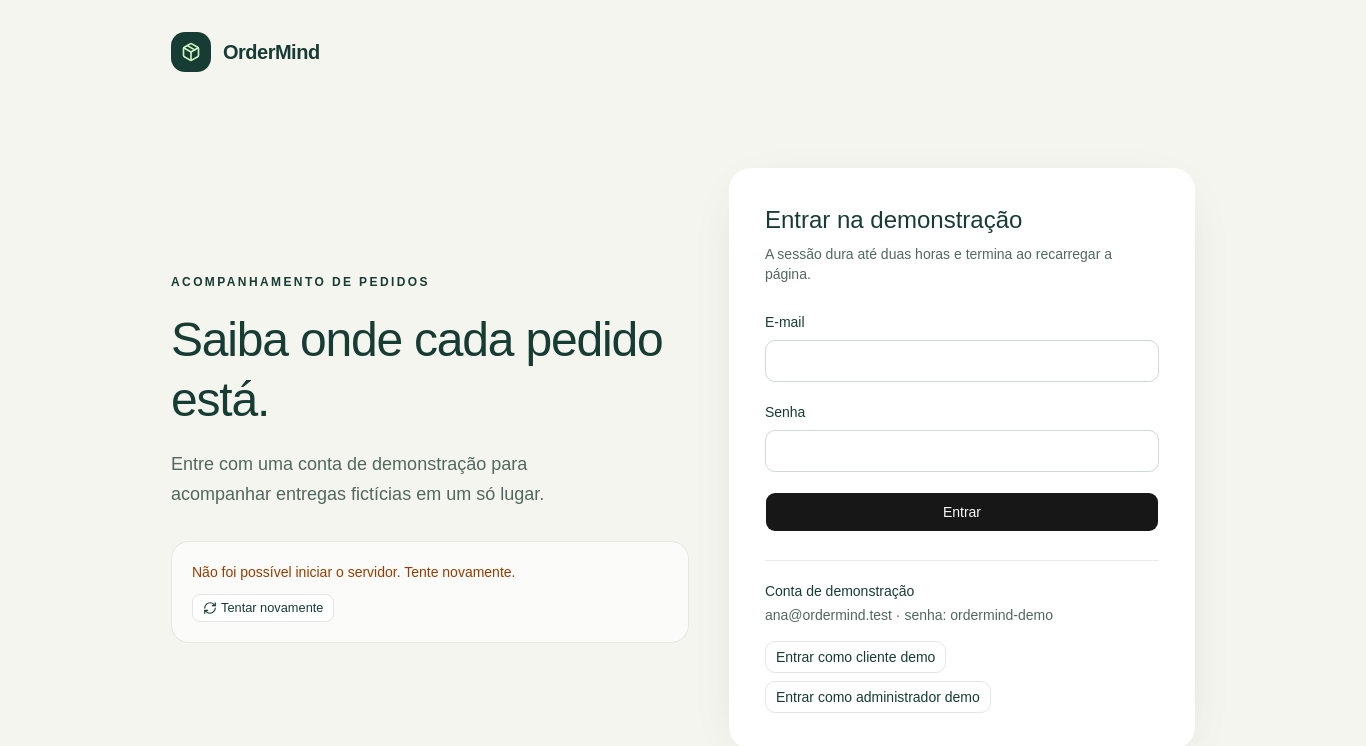
it: App › renders login errors and allows a health retry
Click the button "Tentar novamente" at (263, 608), box [192,594,334,622]
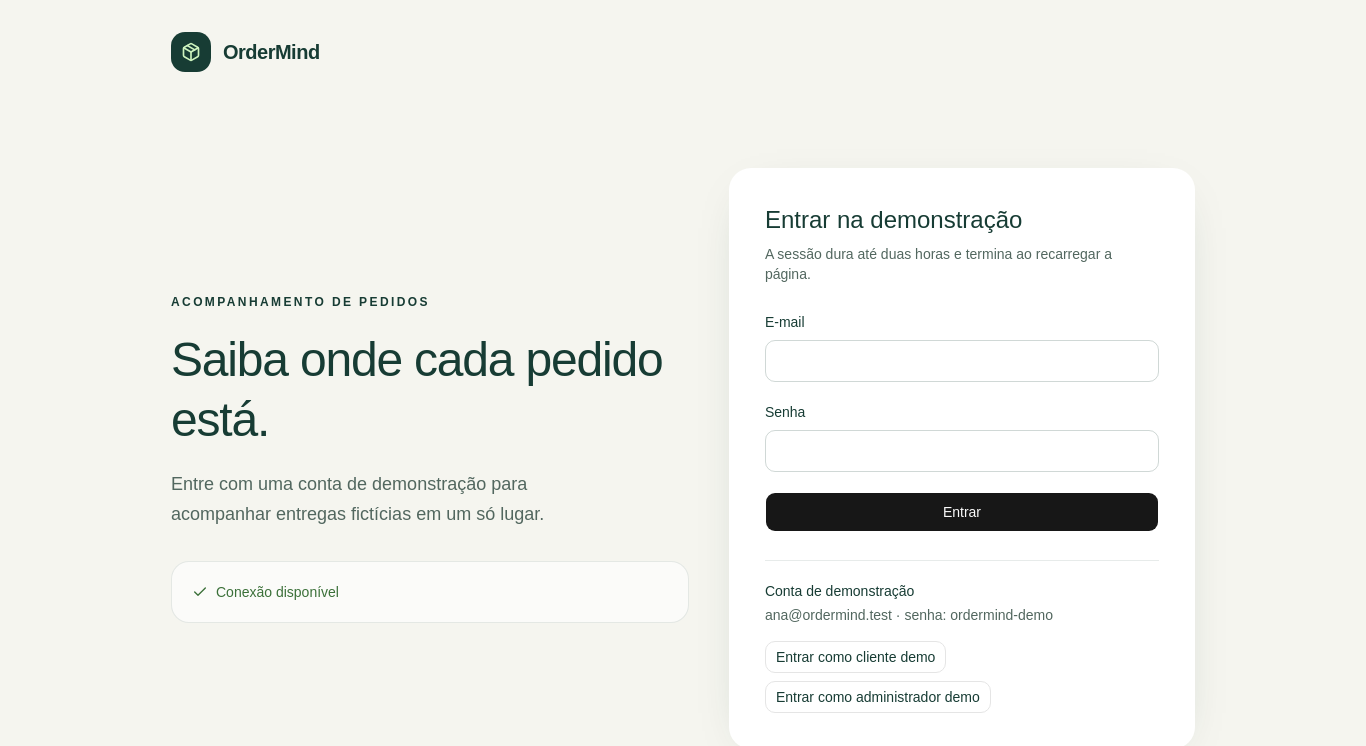
Result: the text "Conexão disponível" is shown at [192,584,339,600]
Type "ana@ordermind.test" into the field labelled "E-mail" at (962, 361), box [765,340,1159,382]
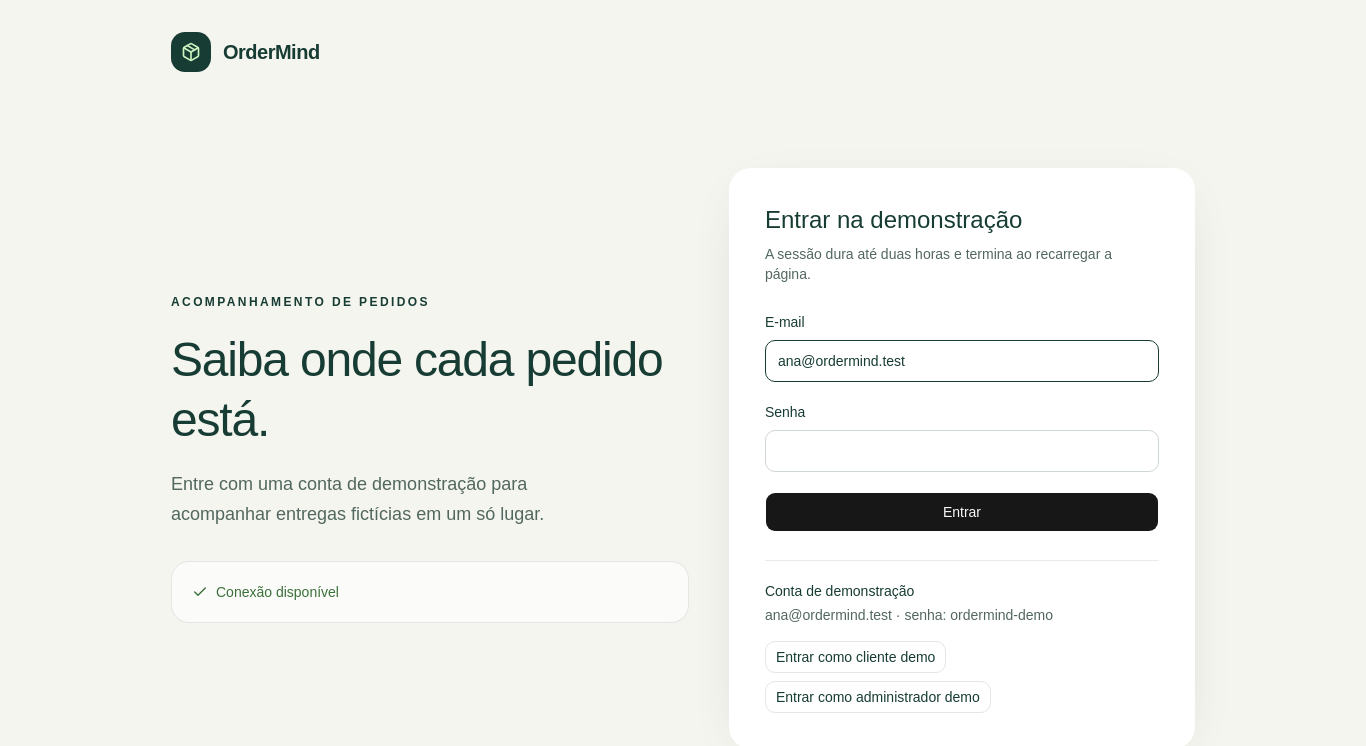
Type "errada" into the password field labelled "Senha" at (962, 451), box [765,430,1159,472]
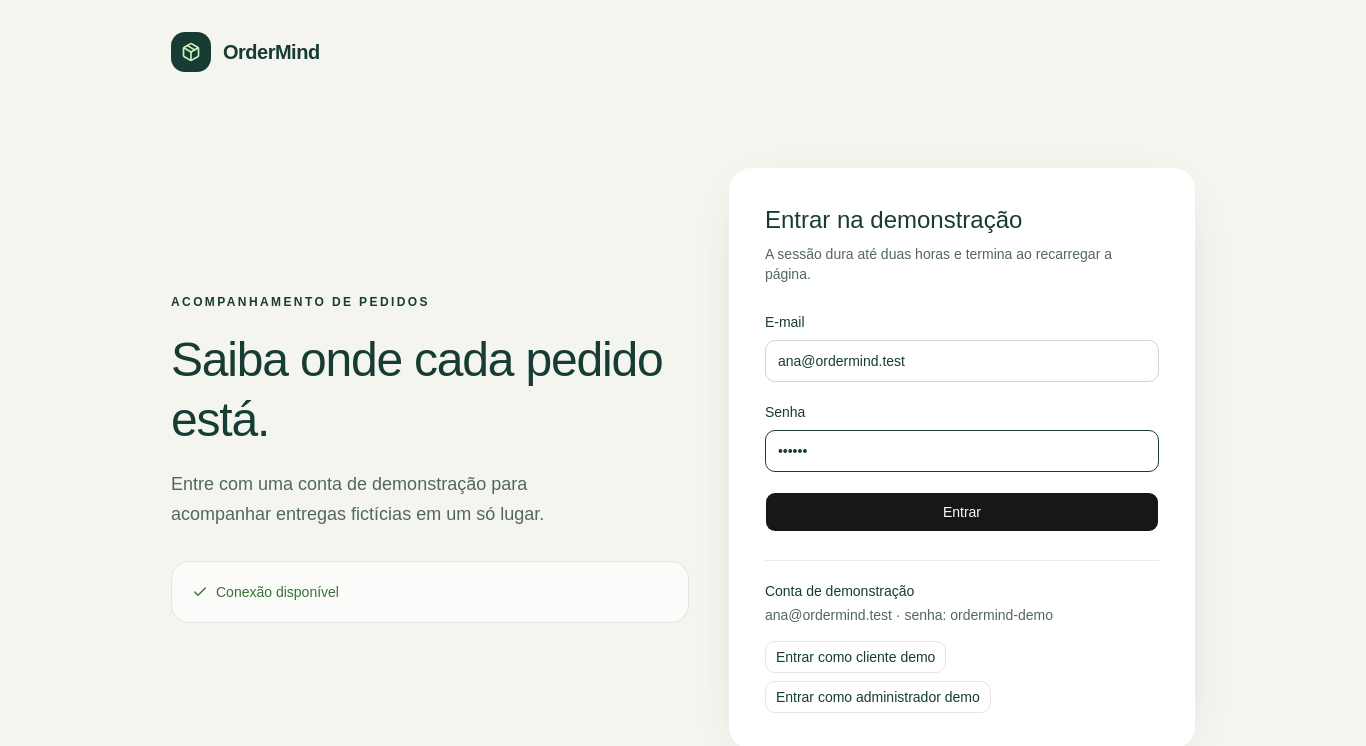
Click the button "Entrar" at (962, 512), box [765,492,1159,532]
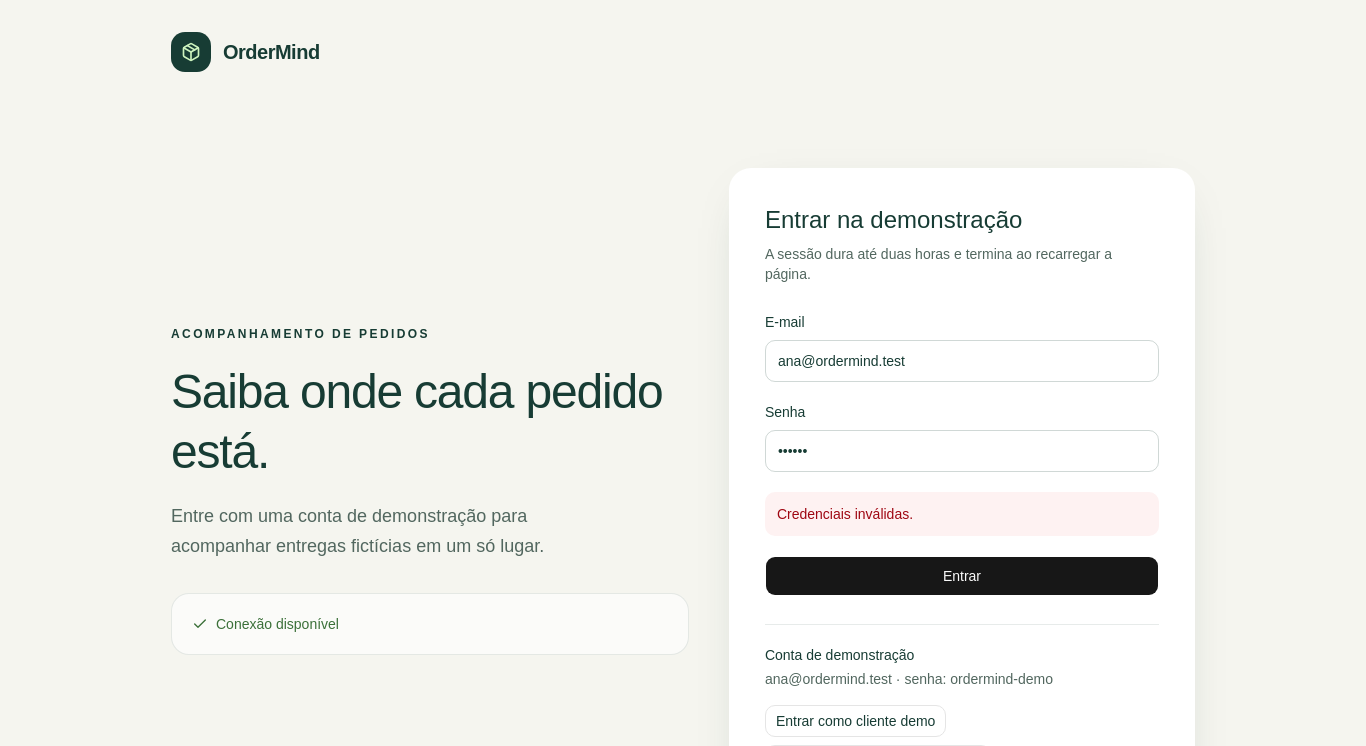
Result: the message "Credenciais inválidas." is shown at [765,492,1159,536]
